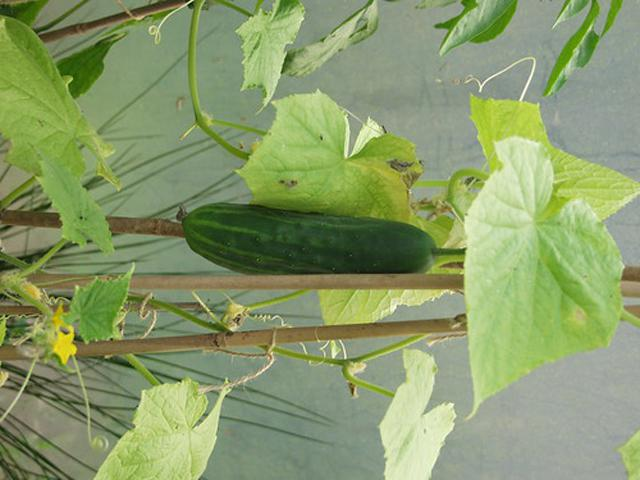cucumber: (177, 201, 435, 275)
